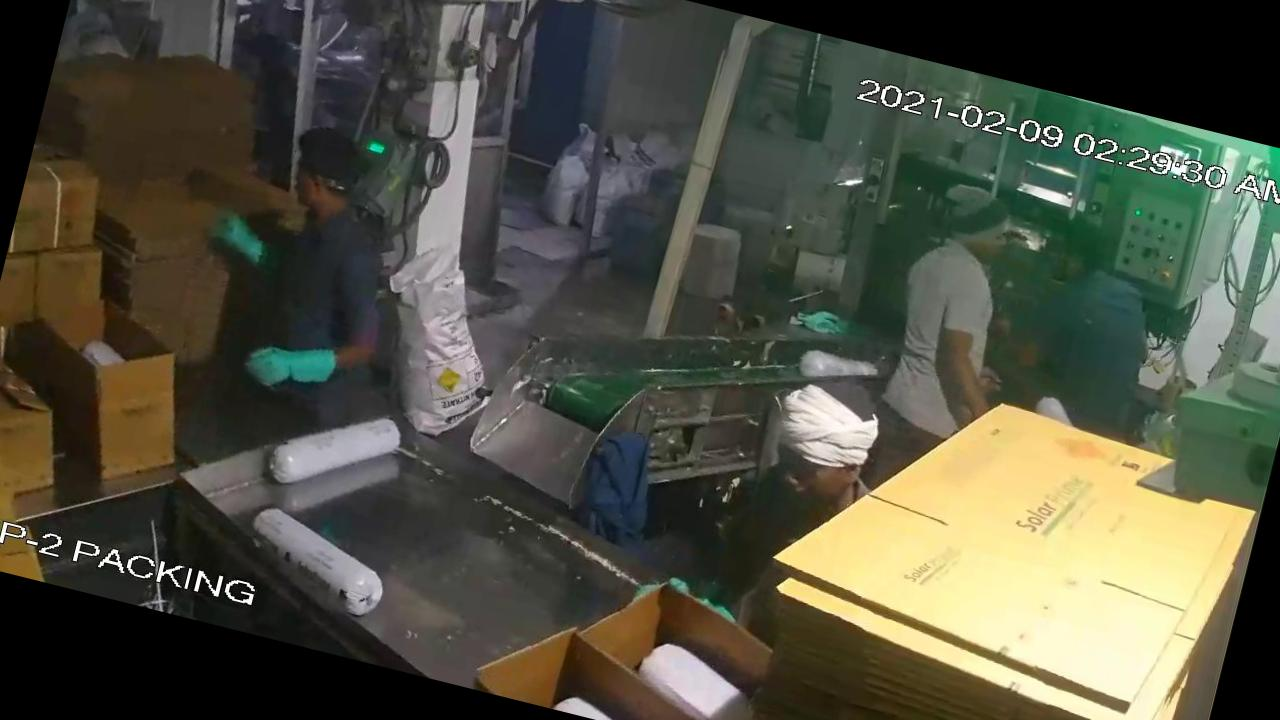Gloves: (216, 315, 370, 416), (192, 190, 300, 284)
No-gloves: (892, 308, 1030, 439)
